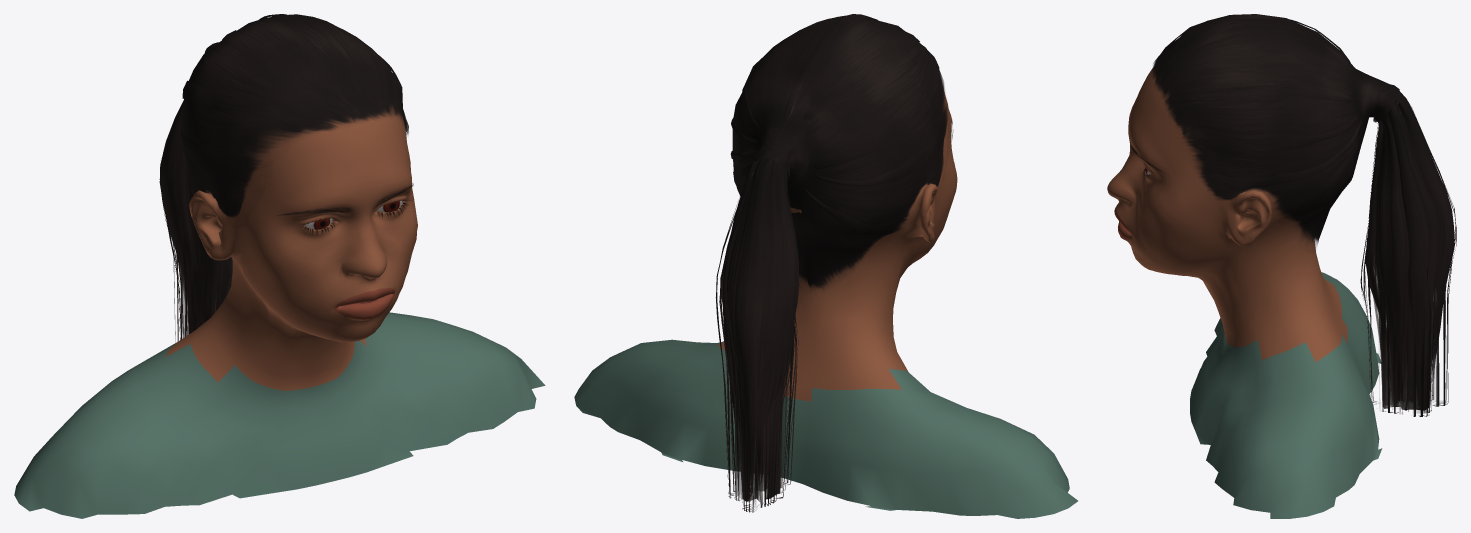
Rendered from woman-02.glb.
3 views of the same model, side by side, from view 1: azimuth 30°, elevation 25°; view 2: azimuth 150°, elevation 25°; view 3: azimuth 270°, elevation 25° (orthographic). The views are drawn at different scales.
Visible parts, largest first — view 1: mpfb-face, mpfb-face.ponytail01; view 2: mpfb-face.ponytail01, mpfb-face; view 3: mpfb-face, mpfb-face.ponytail01.
Boxes of the visible parts, x1,y1,x2,y2 form: mpfb-face: (14, 106, 545, 518); mpfb-face.ponytail01: (159, 14, 408, 342); mpfb-face.ponytail01: (715, 14, 947, 512); mpfb-face: (574, 80, 1077, 518); mpfb-face: (1107, 67, 1382, 518); mpfb-face.ponytail01: (1152, 14, 1456, 416).
Bounding box in the file's own units: 0.4221 × 0.3374 × 0.2765.
9 materials, 6 textured.
